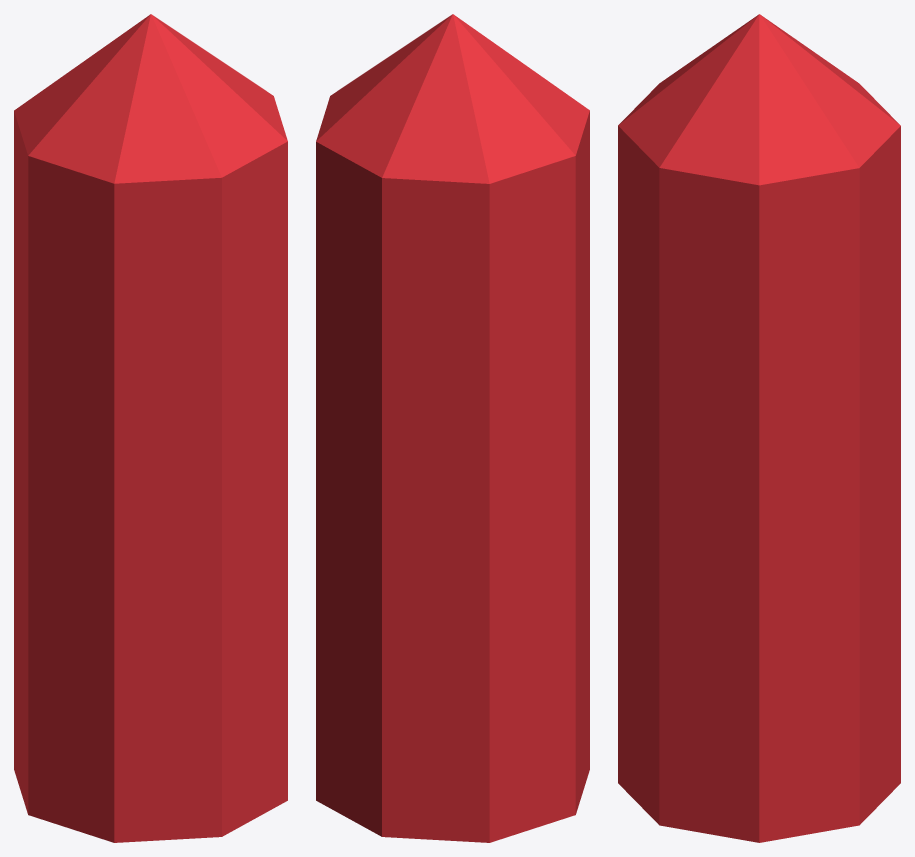
File: crystal_3.fbx
3 views of the same model, side by side, from view 1: azimuth 30°, elevation 25°; view 2: azimuth 150°, elevation 25°; view 3: azimuth 270°, elevation 25° (orthographic).
Parts seen in each view (by area): view 1: Cylinder; view 2: Cylinder; view 3: Cylinder.
Boxes of the visible parts, box(x1,y1,x2,y2) form: Cylinder: box(14, 14, 287, 842); Cylinder: box(316, 14, 589, 842); Cylinder: box(618, 14, 900, 842).
Bounding box in the file's own units: 100 × 300 × 100.
